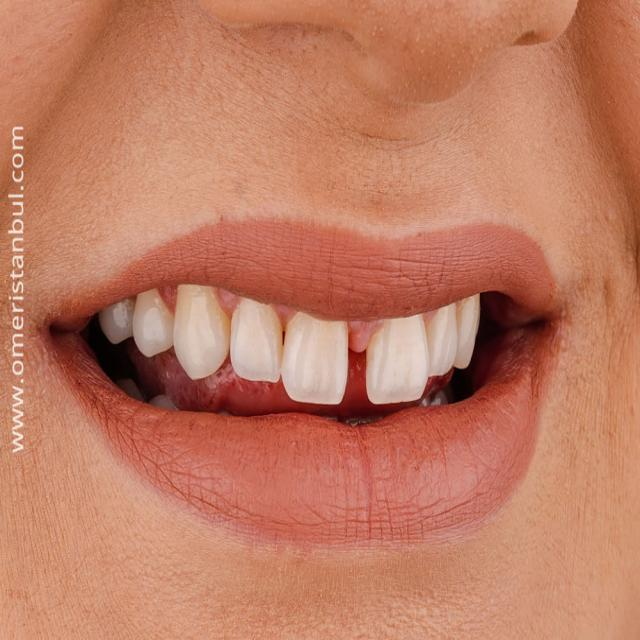Gap: (325, 322, 394, 403)
